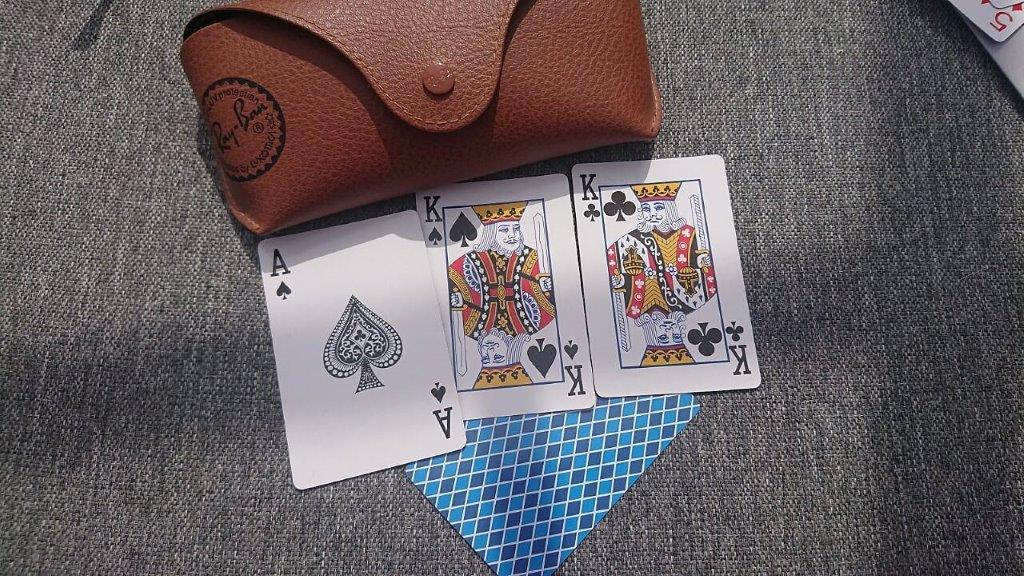AS: (266, 244, 295, 304)
BACK: (409, 452, 647, 576)
KC: (577, 169, 603, 225)
KS: (422, 192, 448, 249)
